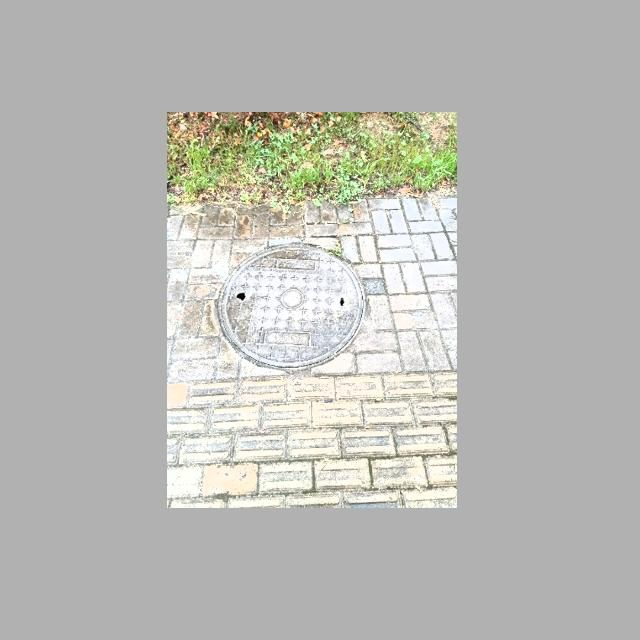good: (218, 244, 364, 368)
